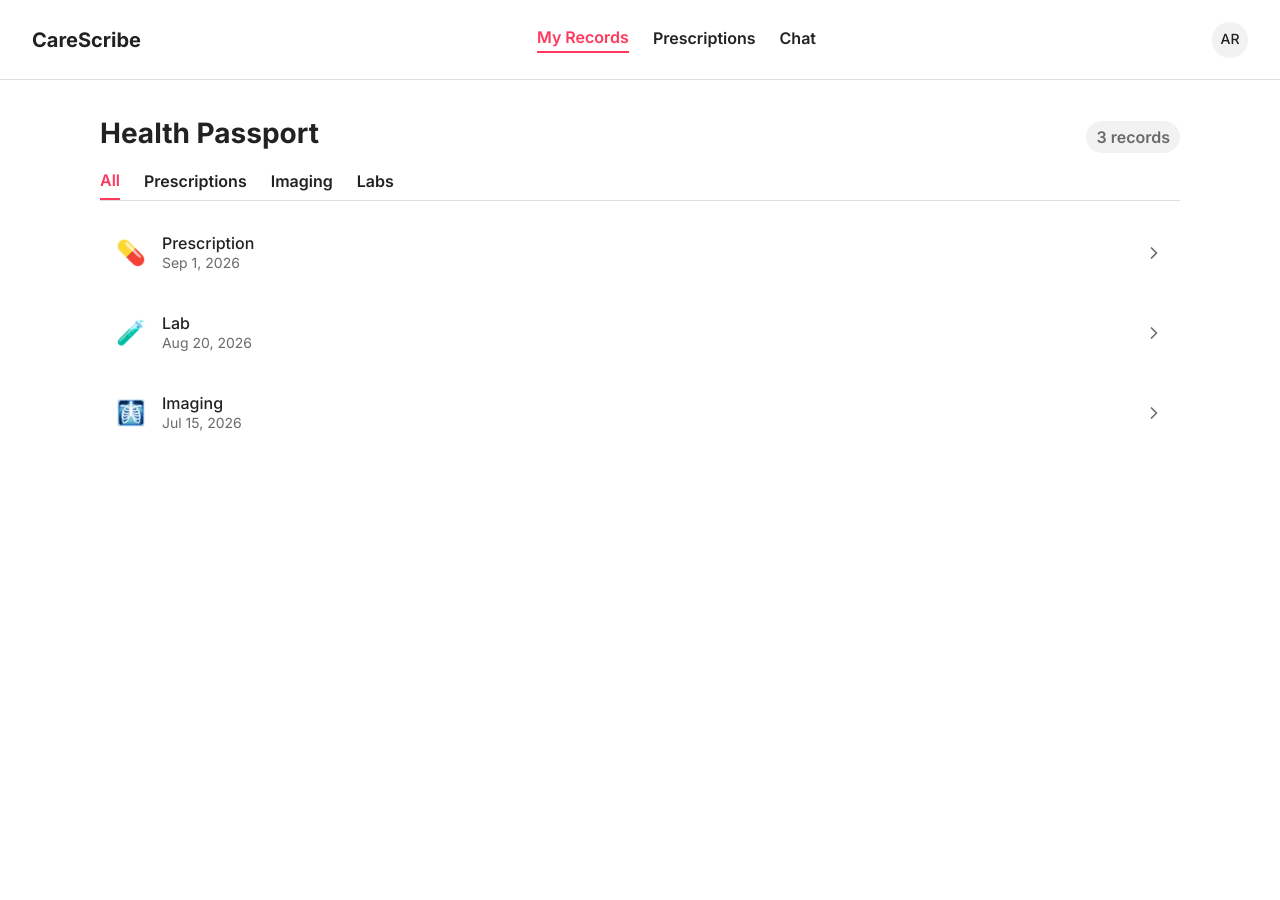
it: health passport › closes the panel via the close button
Click the list item "💊 Prescription Sep 1, 2026".
click(640, 253)  # box [100, 217, 1180, 289]
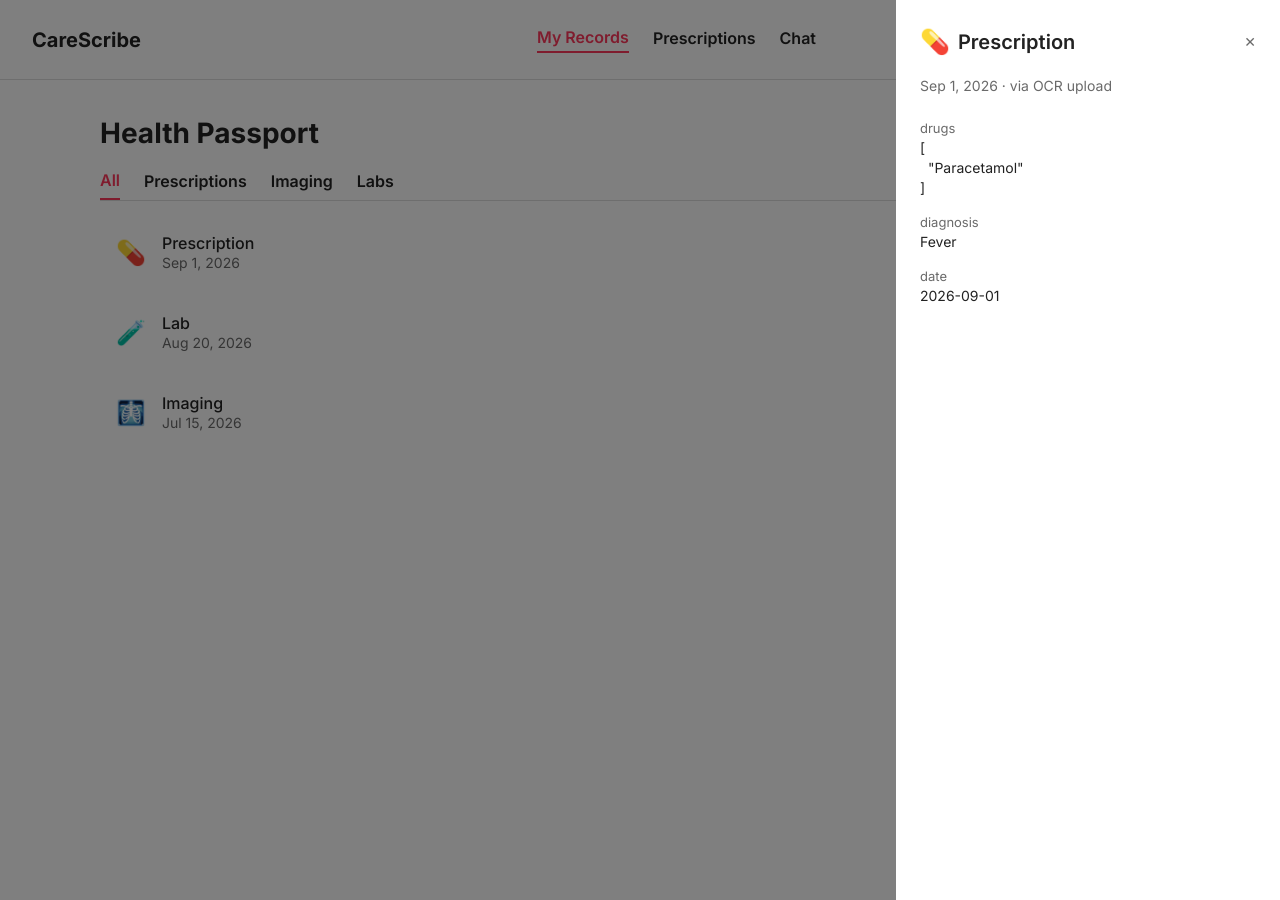
Click the button named "Close record details".
click(1250, 42)  # box [1244, 32, 1256, 52]
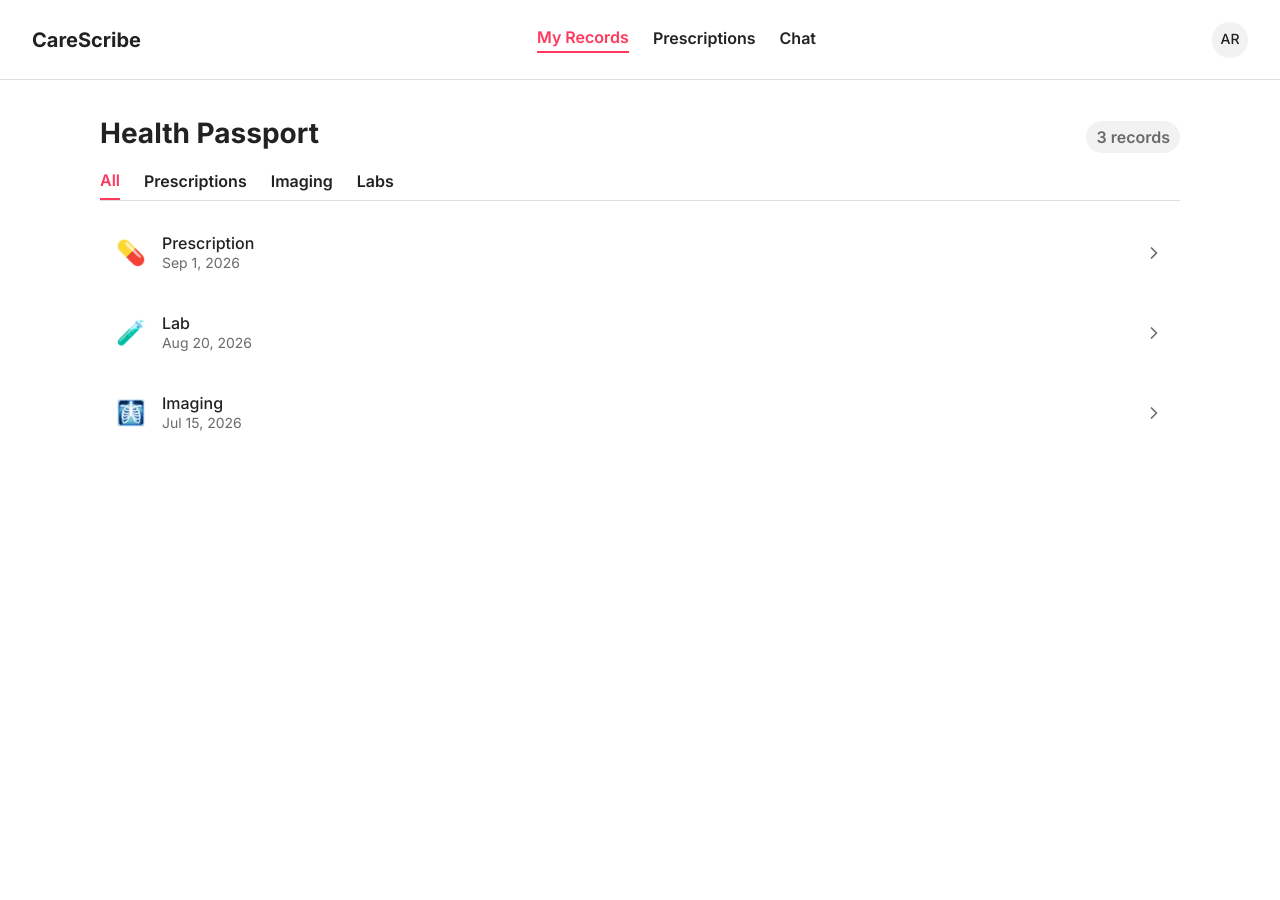
Result: the dialog is gone
